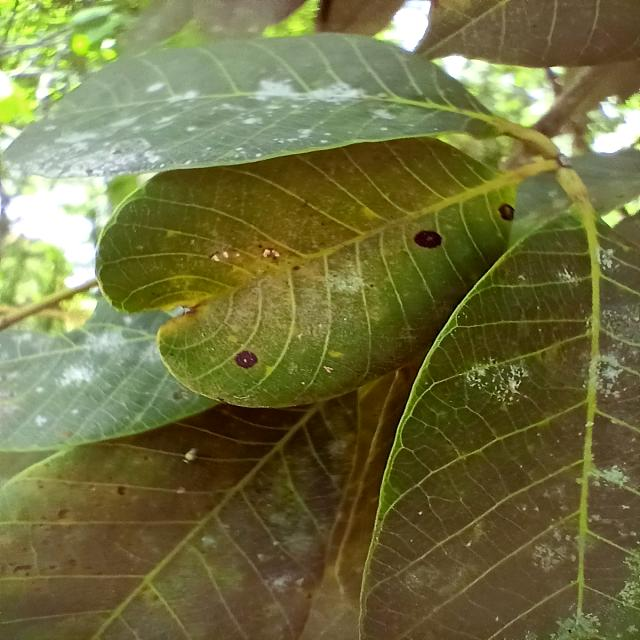Colletotrichum: (413, 230, 443, 250), (235, 350, 257, 369), (498, 203, 516, 222)
